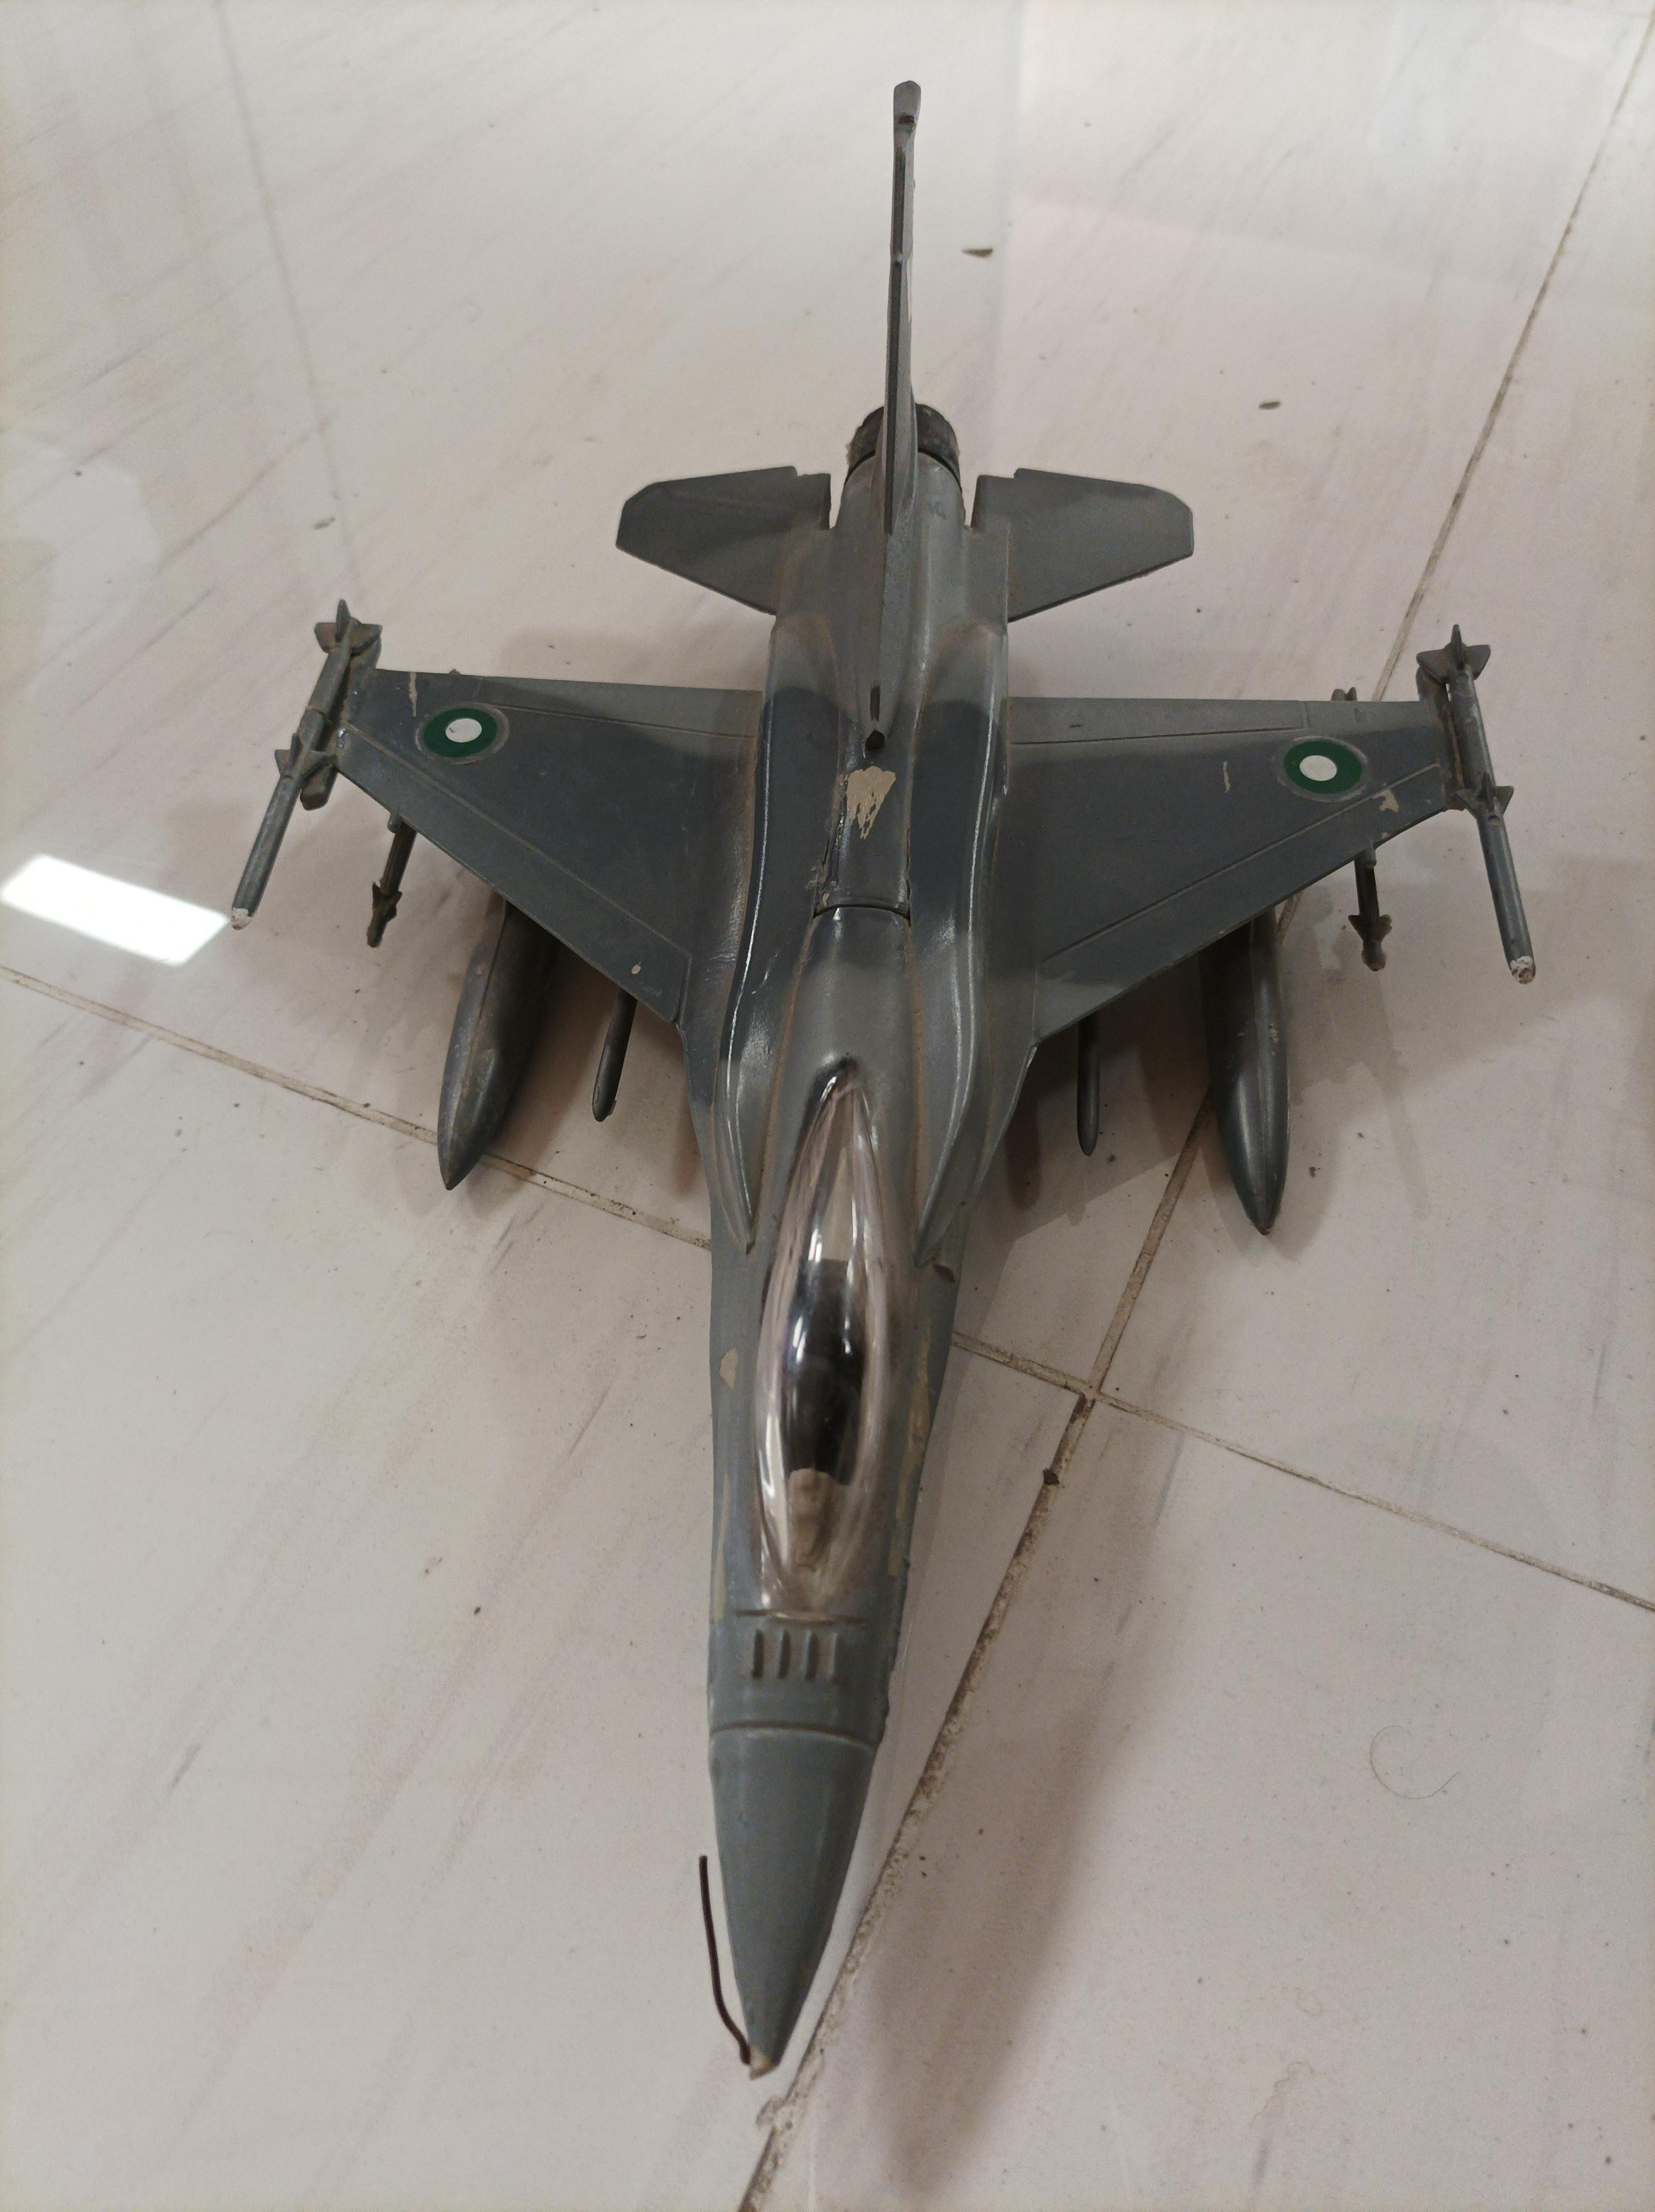Airplane: (216, 360, 1568, 2101)
